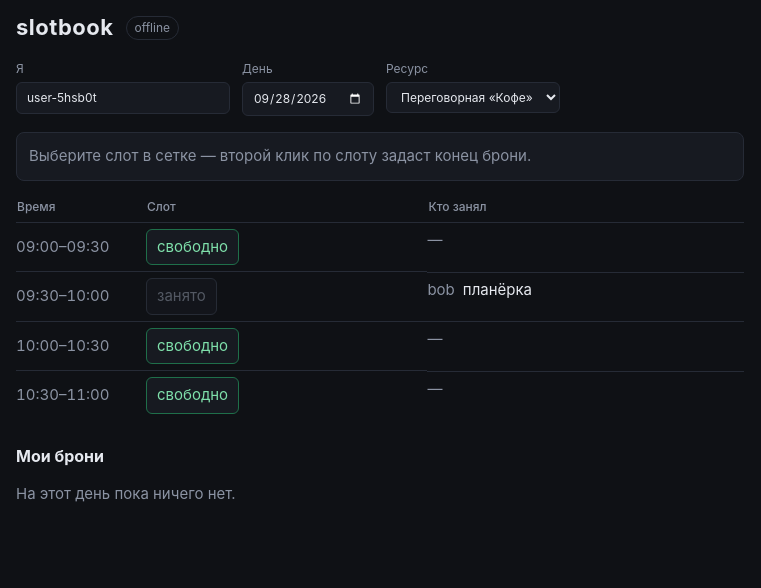
it: App › не даёт собрать диапазон через занятый слот
Click the button with test id "slot" in the row of "09:00": (192, 247) left=146, top=228, right=239, bottom=265
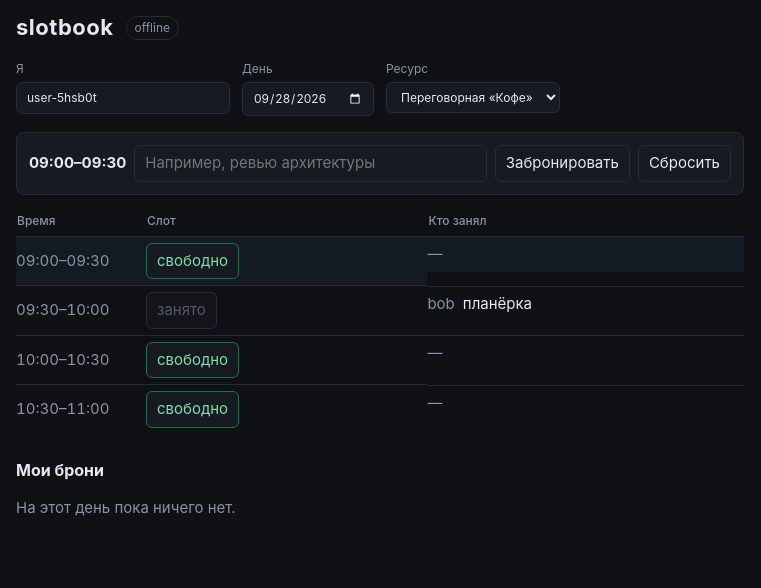
Click the button with test id "slot" next to "11:00": (192, 409) left=146, top=391, right=239, bottom=428
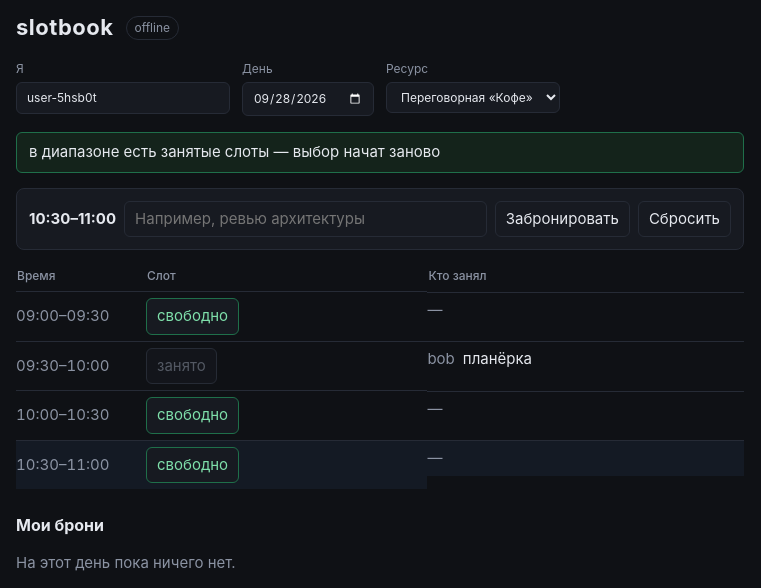
Now the text with test id "notice" shows "выбор начат заново", box left=29, top=142, right=440, bottom=161
Now the text with test id "selection-range" reads "10:30–11:00", box left=29, top=208, right=116, bottom=230
